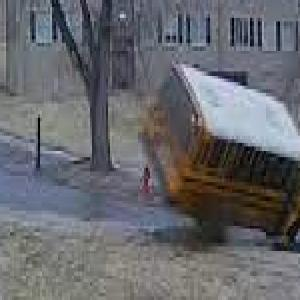severe: (138, 54, 300, 246)
